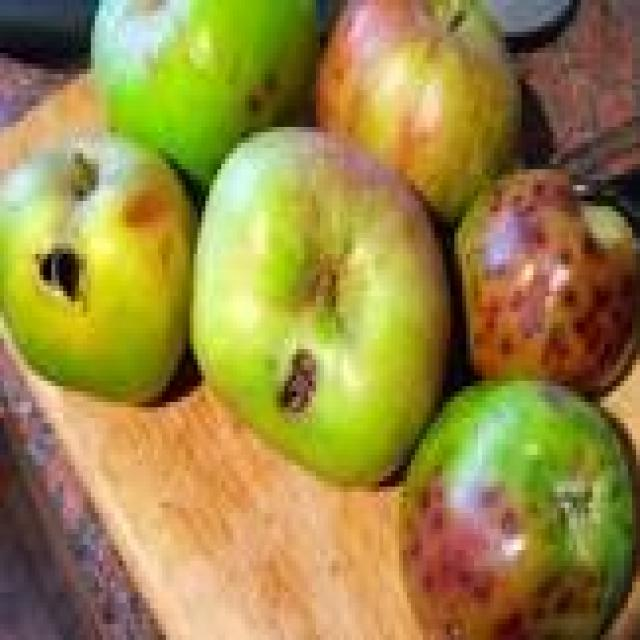apple: (194, 127, 450, 486), (400, 381, 636, 639), (0, 138, 193, 401), (317, 0, 521, 222), (91, 0, 319, 185), (455, 170, 639, 391)
